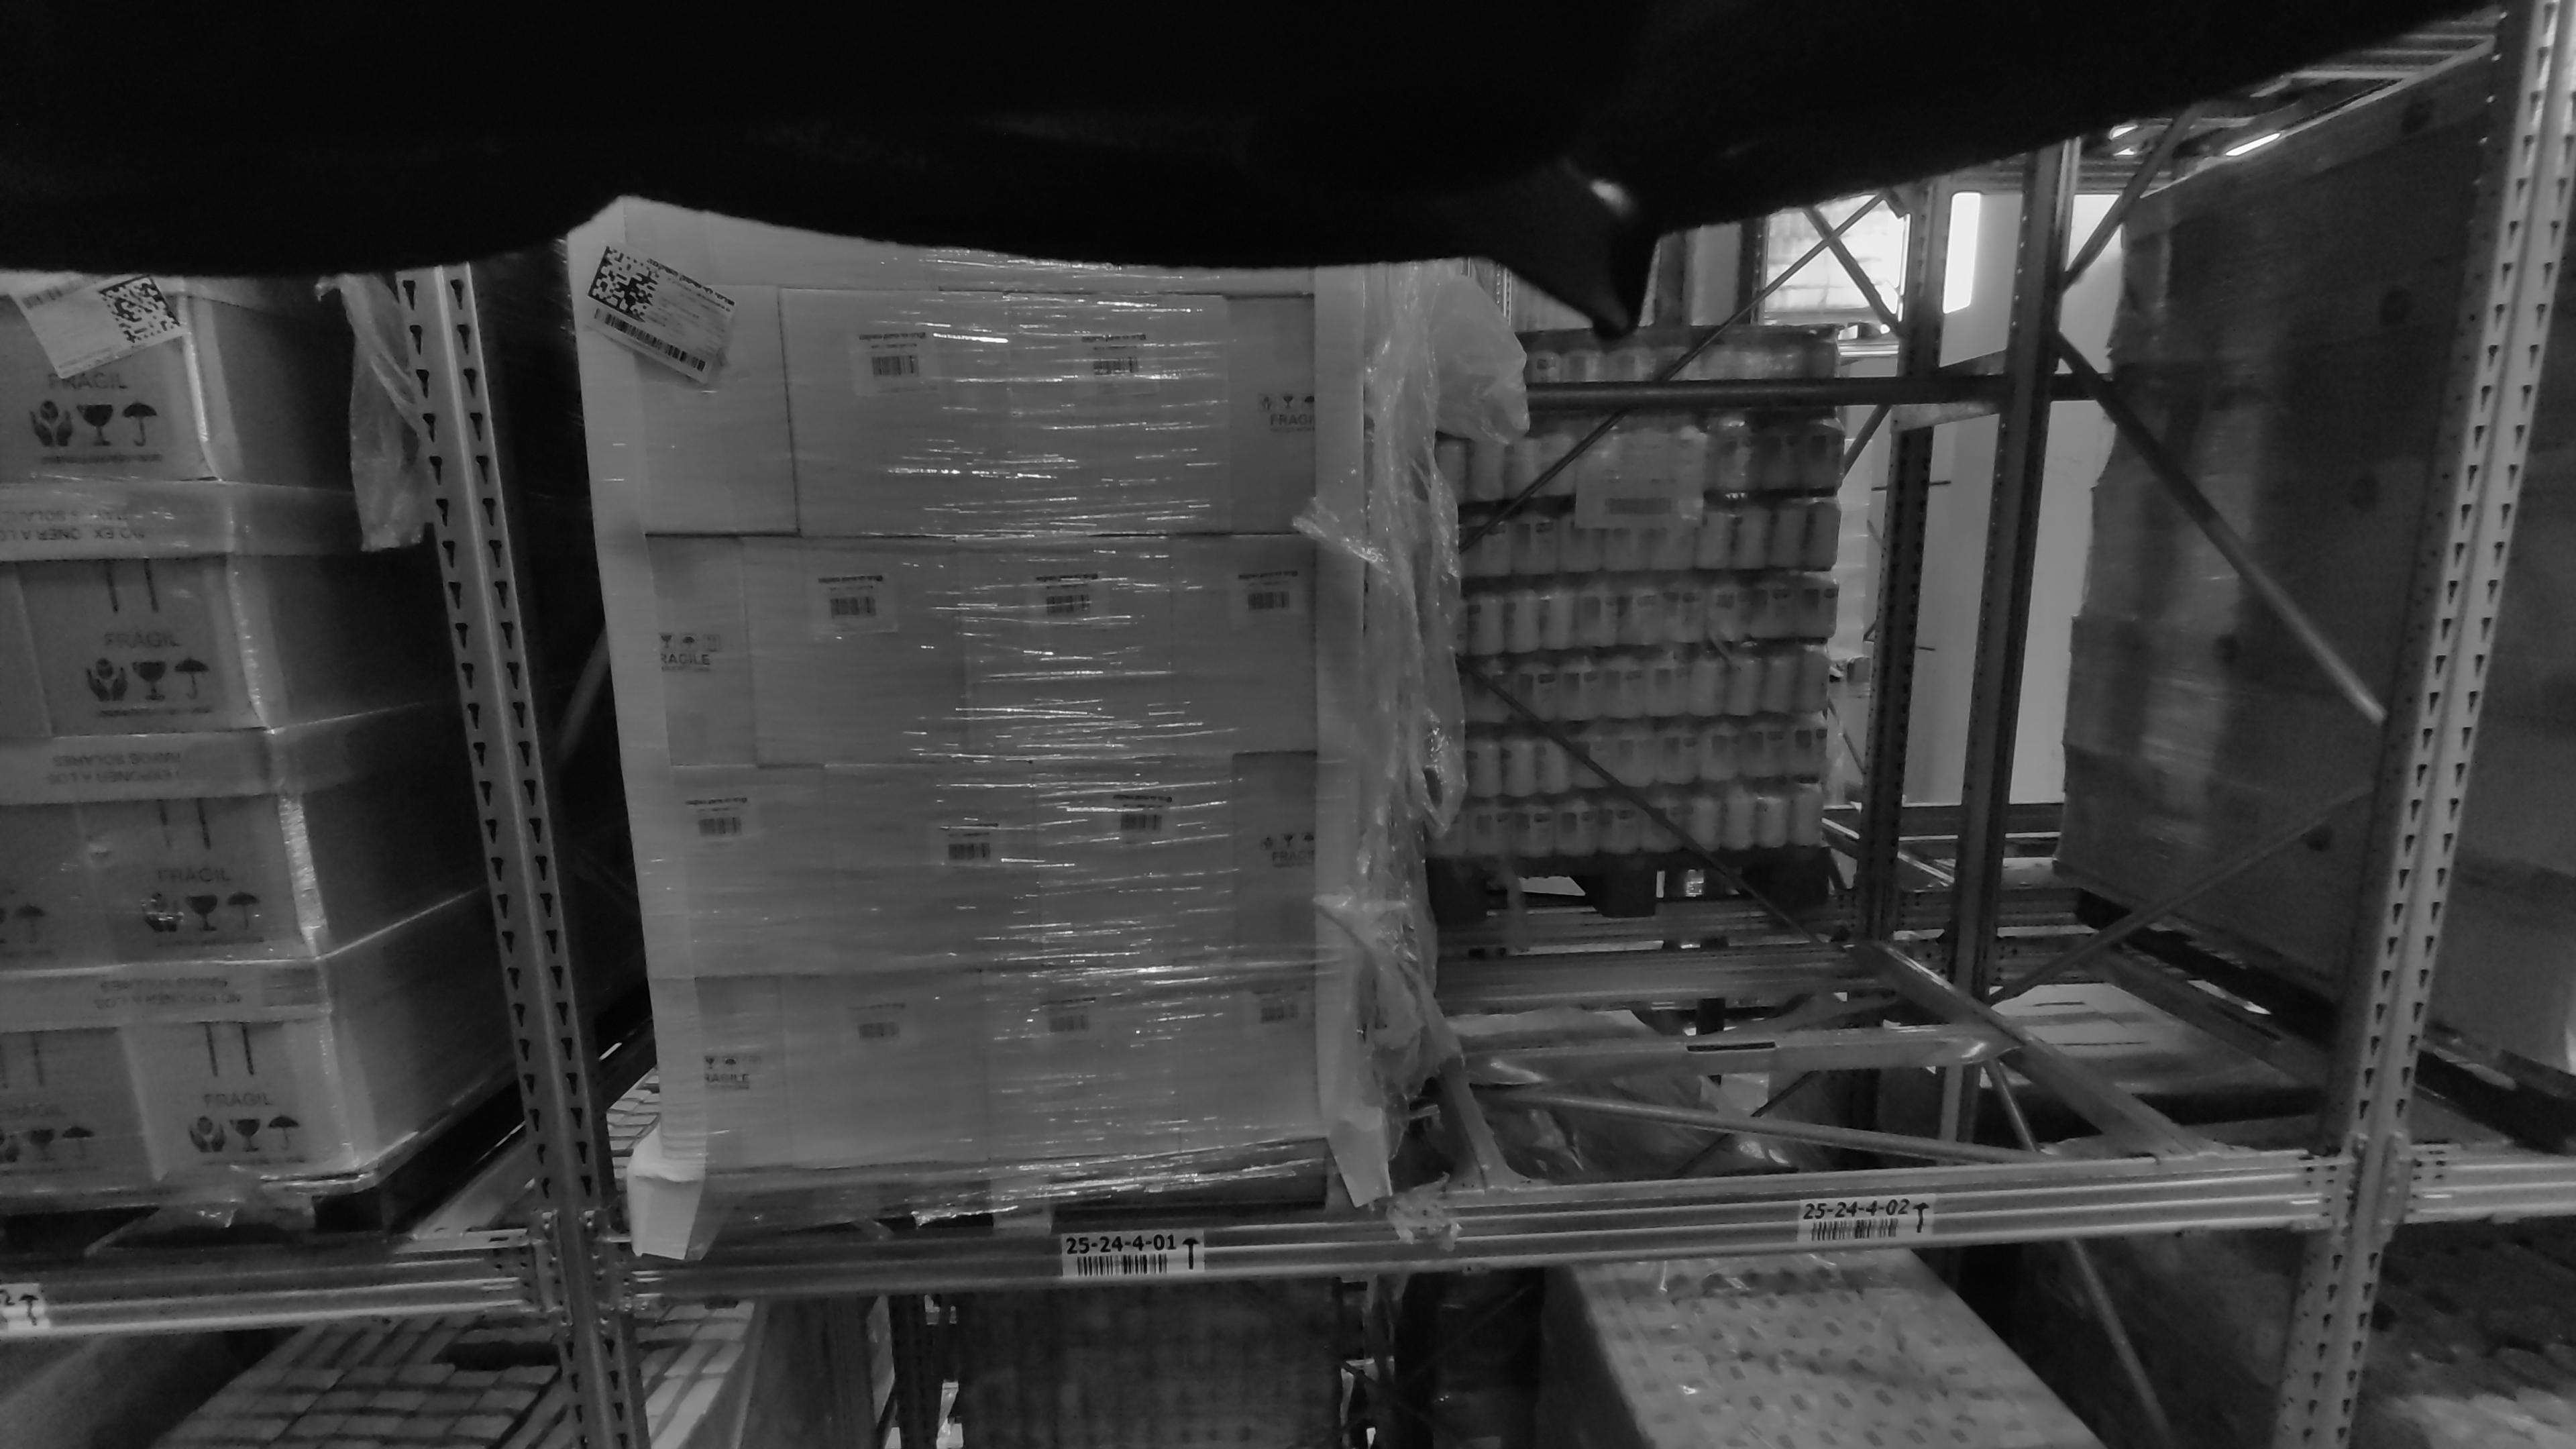empty-shelf: (1536, 195, 2171, 1171)
